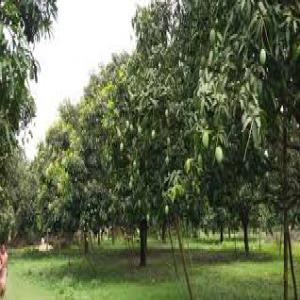Tree: (39, 43, 227, 266)
